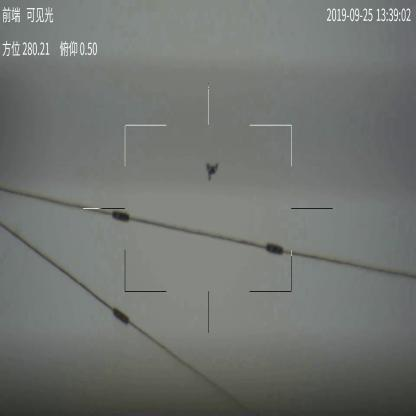uav: (204, 160, 220, 185)
